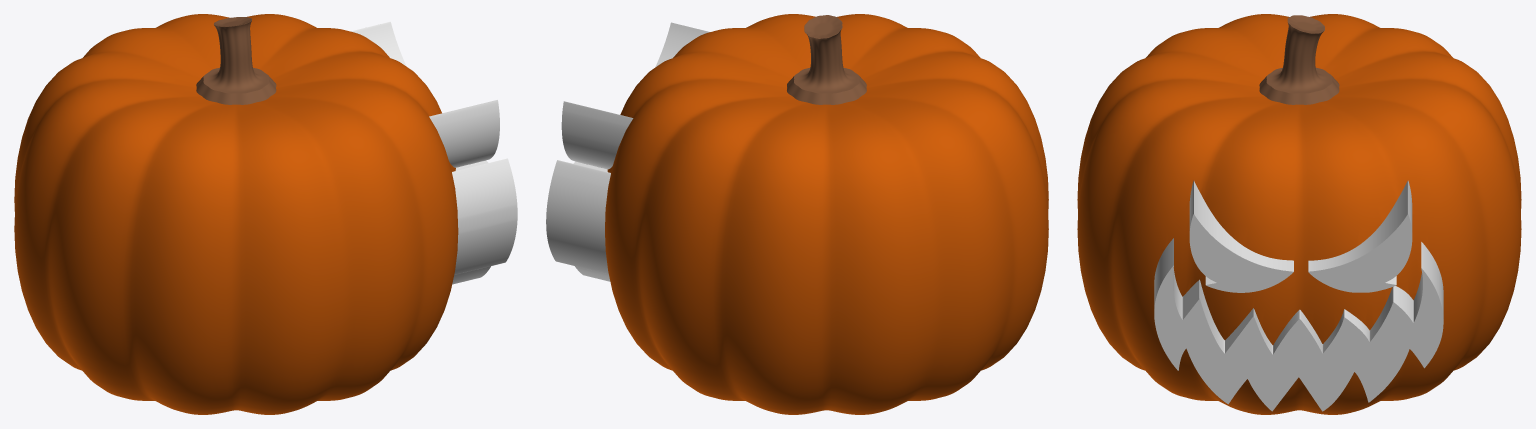
The model's file is pumpkin.gltf.
3 renders of one model, left to right at view 1: azimuth 30°, elevation 25°; view 2: azimuth 150°, elevation 25°; view 3: azimuth 270°, elevation 25°, orthographic.
Parts seen in each view (by area): view 1: Pumpkin, Curve.002, Stem, Curve, Curve.001; view 2: Pumpkin, Curve.002, Stem, Curve.001, Curve; view 3: Pumpkin, Curve.002, Curve.001, Curve, Stem.
Part boxes in pixels (bbox=[...]): Pumpkin: bbox=[14, 14, 458, 414]; Curve.002: bbox=[452, 158, 517, 284]; Stem: bbox=[196, 17, 276, 104]; Curve: bbox=[429, 100, 499, 170]; Curve.001: bbox=[350, 21, 406, 66]; Pumpkin: bbox=[605, 14, 1048, 414]; Curve.002: bbox=[546, 160, 610, 281]; Stem: bbox=[787, 15, 866, 104]; Curve.001: bbox=[561, 101, 633, 172]; Curve: bbox=[655, 22, 709, 67]; Pumpkin: bbox=[1077, 14, 1521, 414]; Curve.002: bbox=[1154, 238, 1443, 411]; Curve.001: bbox=[1308, 180, 1412, 292]; Curve: bbox=[1189, 180, 1293, 292]; Stem: bbox=[1259, 15, 1339, 104].
Size of the model in its own units: 0.8552 by 0.6805 by 0.8202.
